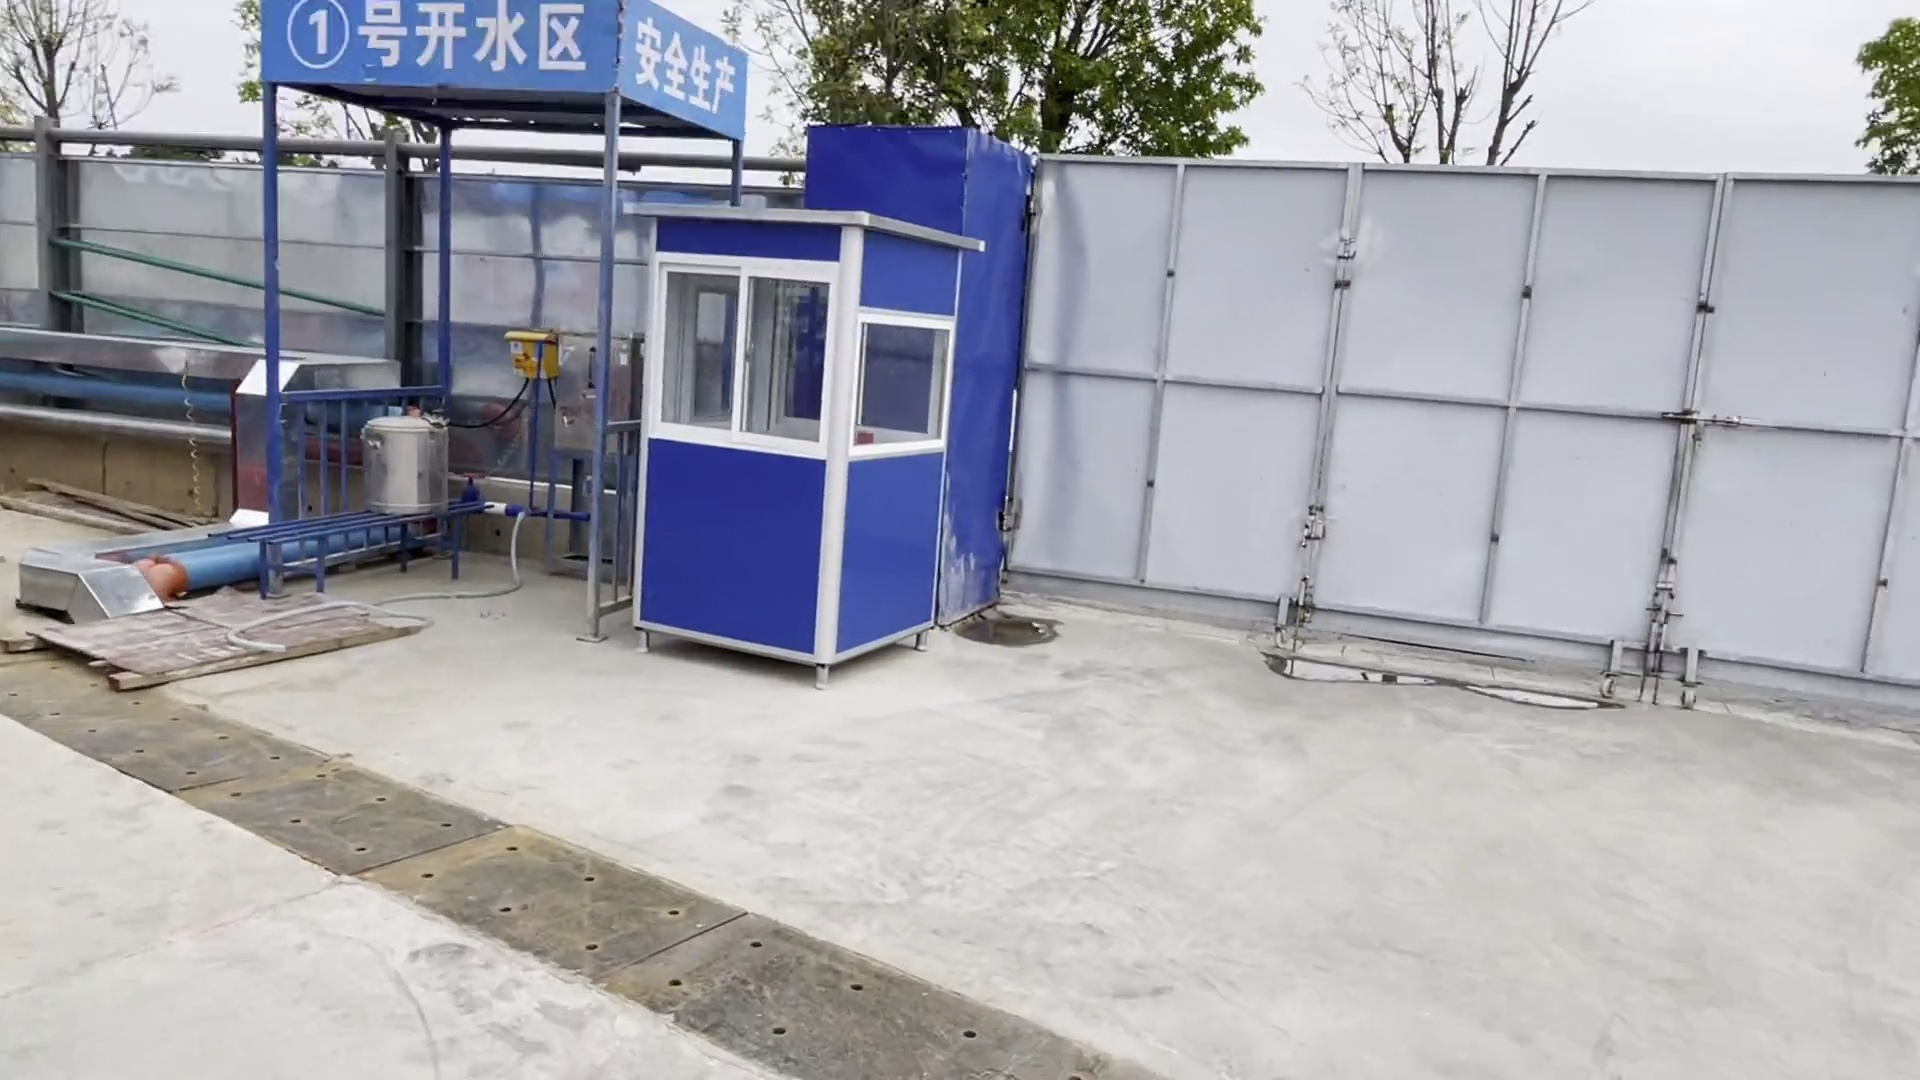ebox: (512, 320, 558, 384)
slogan: (612, 7, 750, 135)
